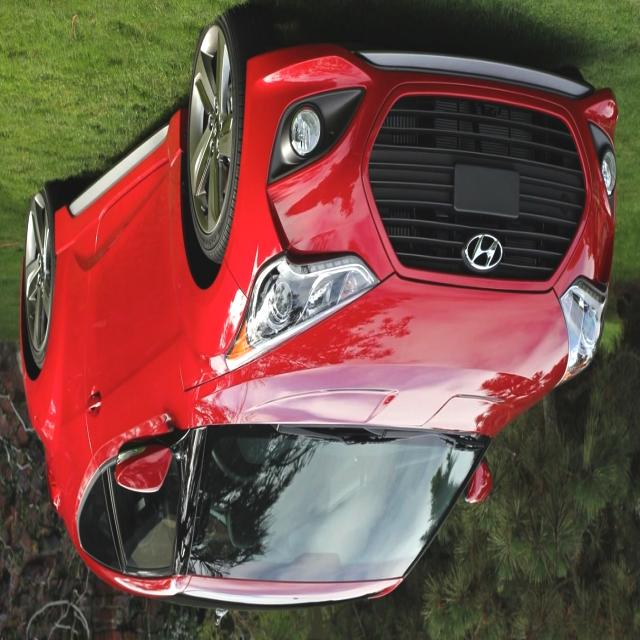red: (26, 37, 608, 600)
